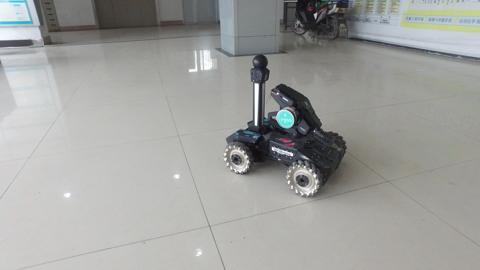chariot: (222, 53, 348, 198)
